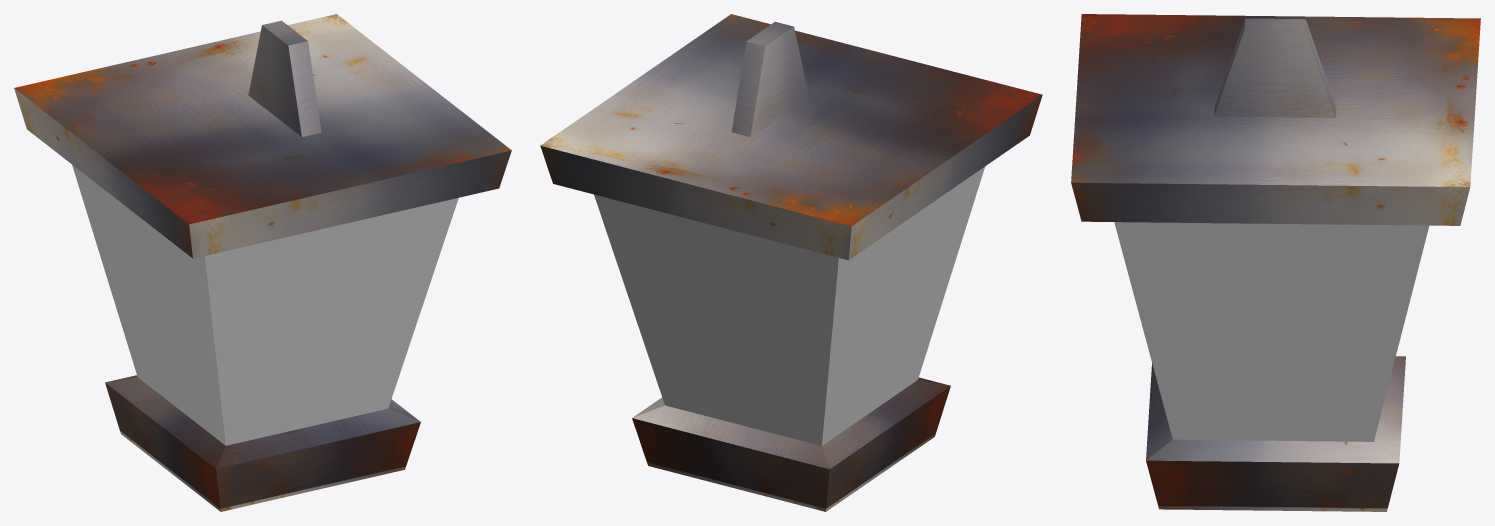
Rendered from lampada_DEVIL_CHILD.fbx.
3 renders of one model, left to right at view 1: azimuth 30°, elevation 25°; view 2: azimuth 150°, elevation 25°; view 3: azimuth 270°, elevation 25°, orthographic. The views are drawn at different scales.
Parts seen in each view (by area): view 1: lampada; view 2: lampada; view 3: lampada.
Boxes of the visible parts, x1,y1,x2,y2 form: lampada: [14, 14, 511, 511]; lampada: [540, 14, 1042, 511]; lampada: [1071, 14, 1480, 511].
Size of the model in its own units: 0.2184 by 0.2647 by 0.2184.
2 materials, 1 textured.
